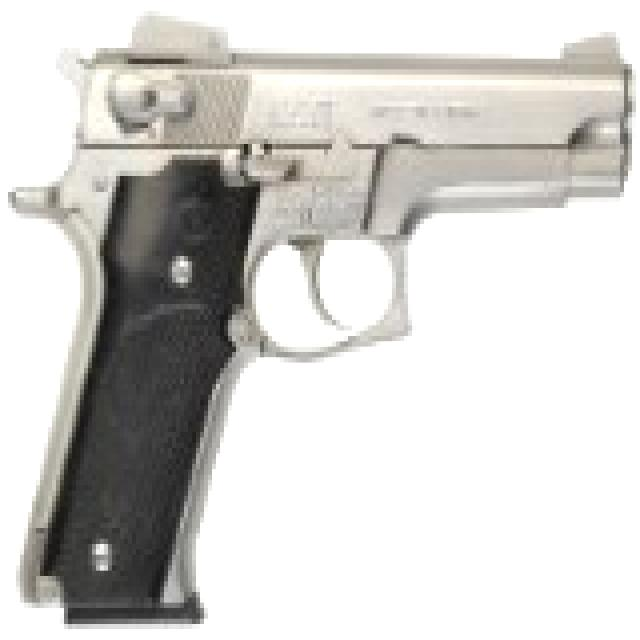pistol: (16, 11, 636, 624)
